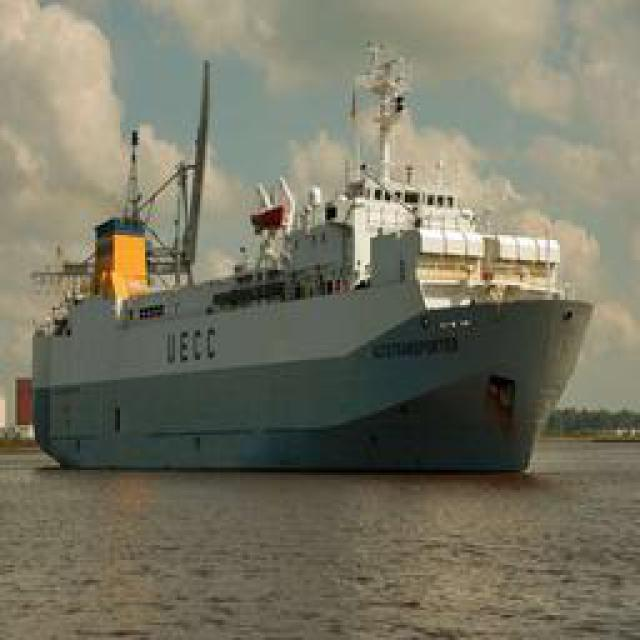Ship: (32, 60, 592, 475)
